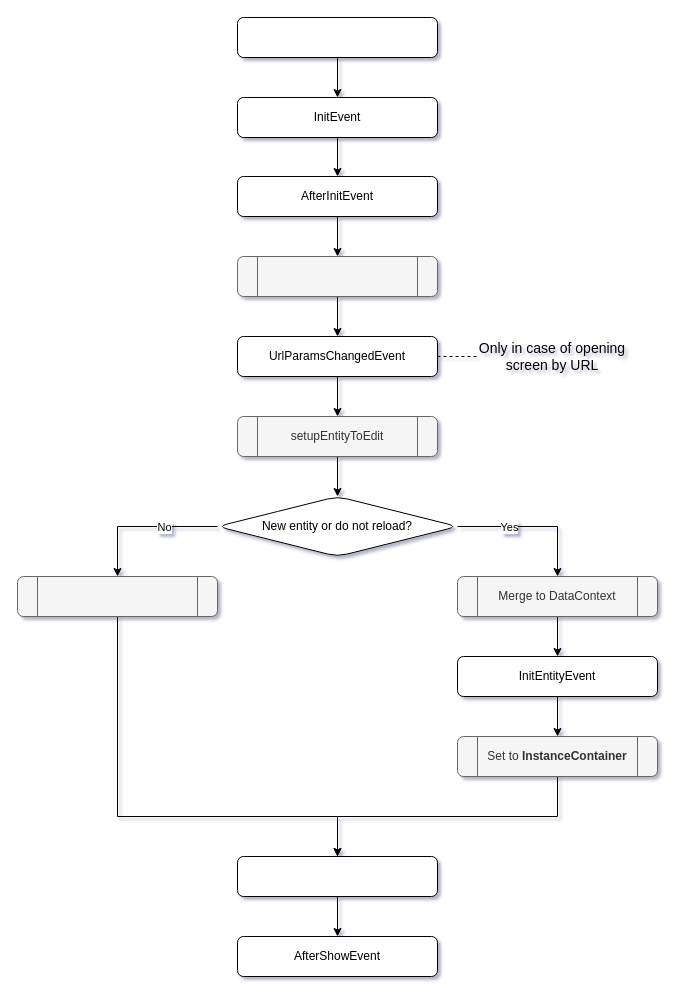
Image size: 681x1000. Some labels were removed from this diagram. The shapes that lost their labels are listed below. From the top down, each one's centre as x and y in pixels, then its label:
At (337,37): "Constructor".
At (337,276): "setEntityToEdit (from calling code)".
At (117,596): "Set entity Id to EditedEntityLoader".
At (337,876): "BeforeShowEvent".
